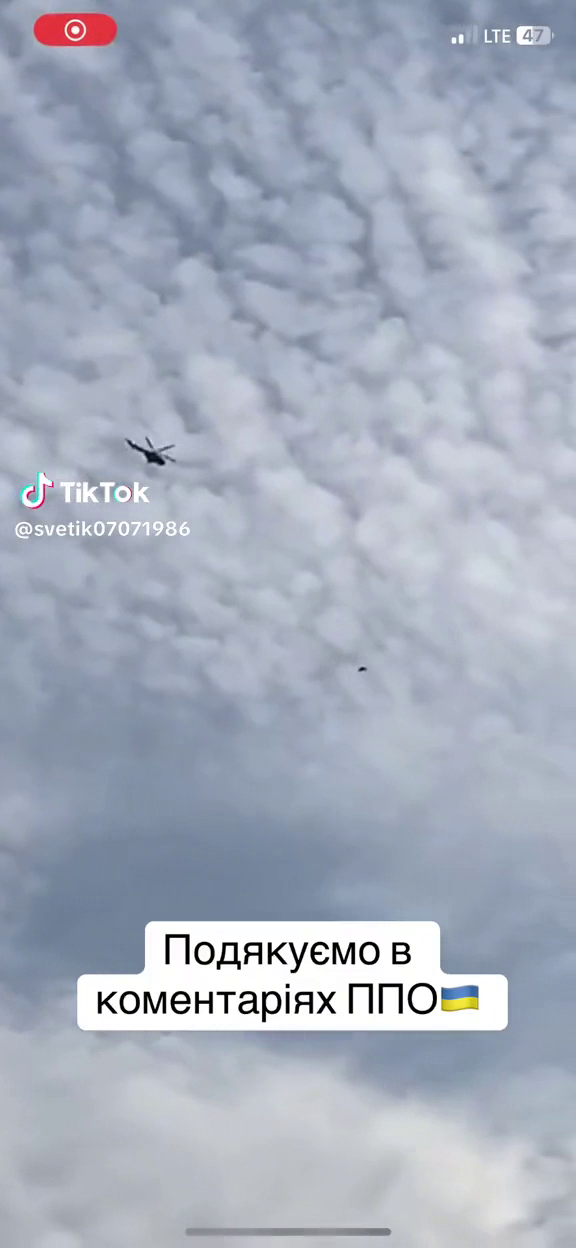not_drone: (121, 430, 179, 470)
